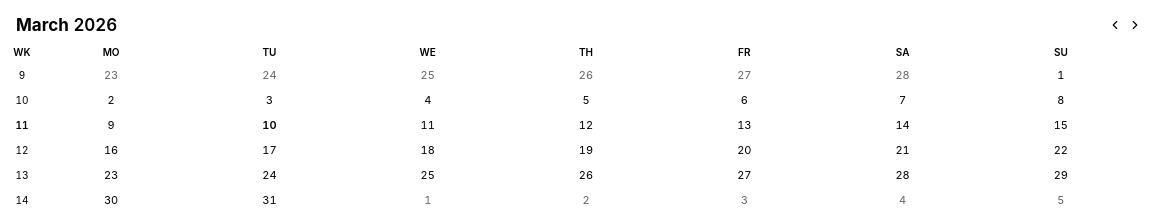
Scenario: MiniCalendar › paging › Previous month shows February 2026 without changing the shown day
Click the button named "Previous month". click: x=1115, y=25
box: [1106, 16, 1124, 34]
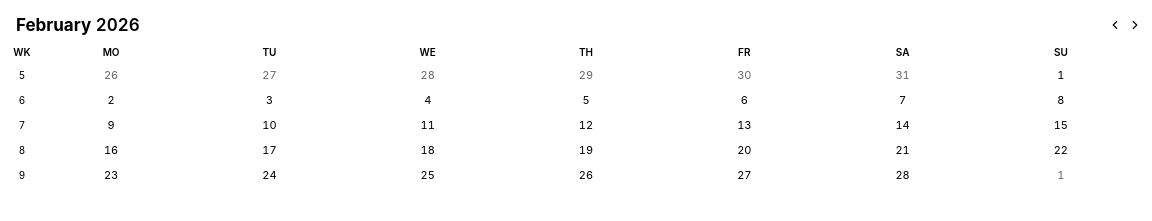
Now the button "February 2026" is shown, box [12, 12, 1104, 38]
